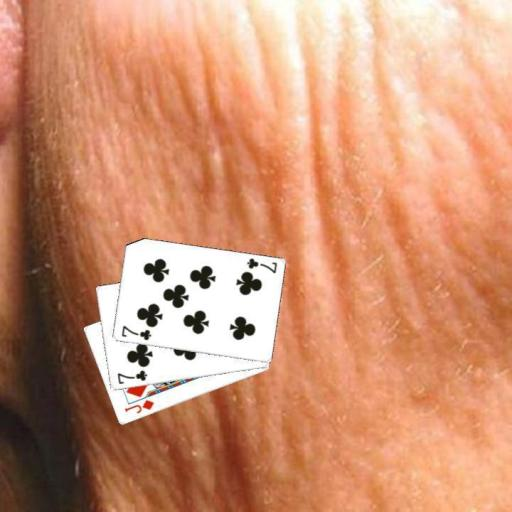card-corner: (118, 322, 152, 342), (114, 367, 148, 386), (121, 397, 156, 415), (243, 256, 278, 274)
